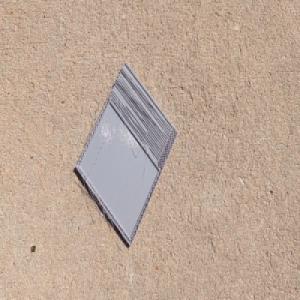PlasticPart: (74, 60, 179, 248)
